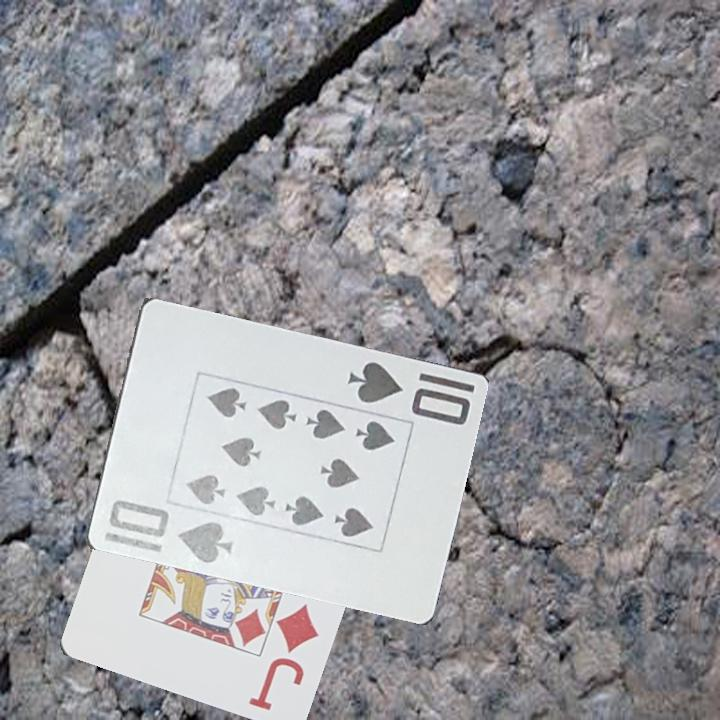Jd: (245, 599, 322, 713)
Ts: (344, 358, 478, 429), (104, 496, 234, 567)
